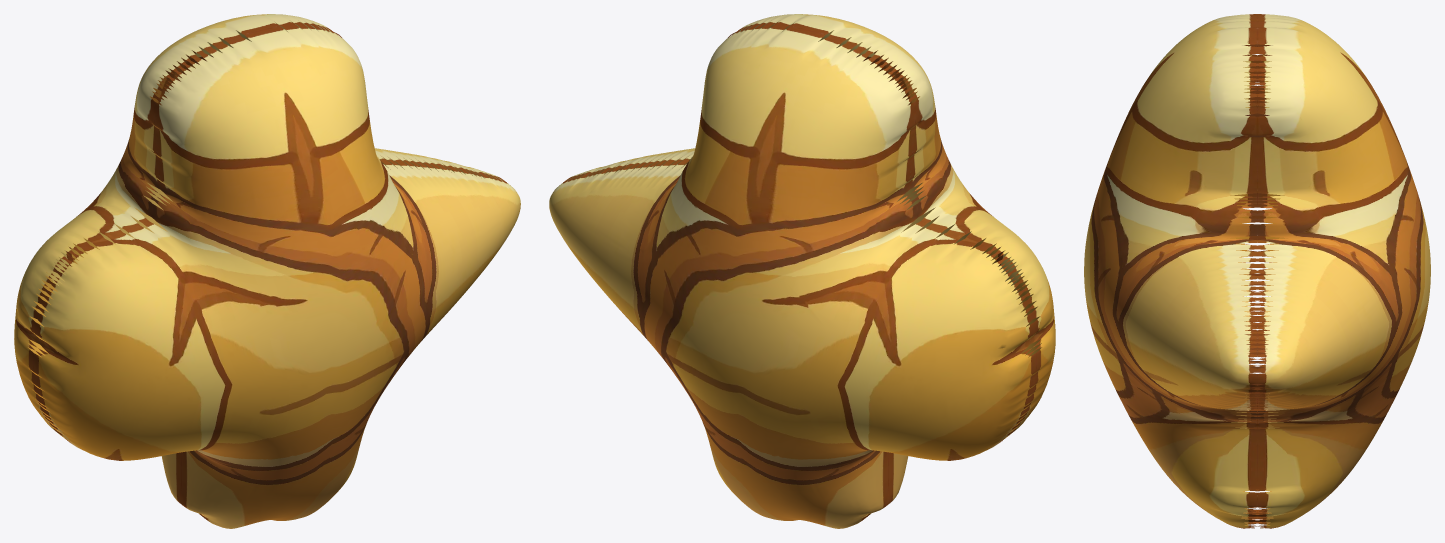
Rendered from log_marker.glb.
3 views of the same model, side by side, from view 1: azimuth 30°, elevation 25°; view 2: azimuth 150°, elevation 25°; view 3: azimuth 270°, elevation 25° (orthographic).
Visible parts, largest first — view 1: log_marker; view 2: log_marker; view 3: log_marker.
Part boxes in pixels (box(x1,y1,x2,y2)): log_marker: box(14, 14, 520, 528); log_marker: box(549, 14, 1055, 528); log_marker: box(1084, 14, 1430, 528).
Size of the model in its own units: 0.9889 by 0.9578 by 0.6272.
1 material, 1 textured.
